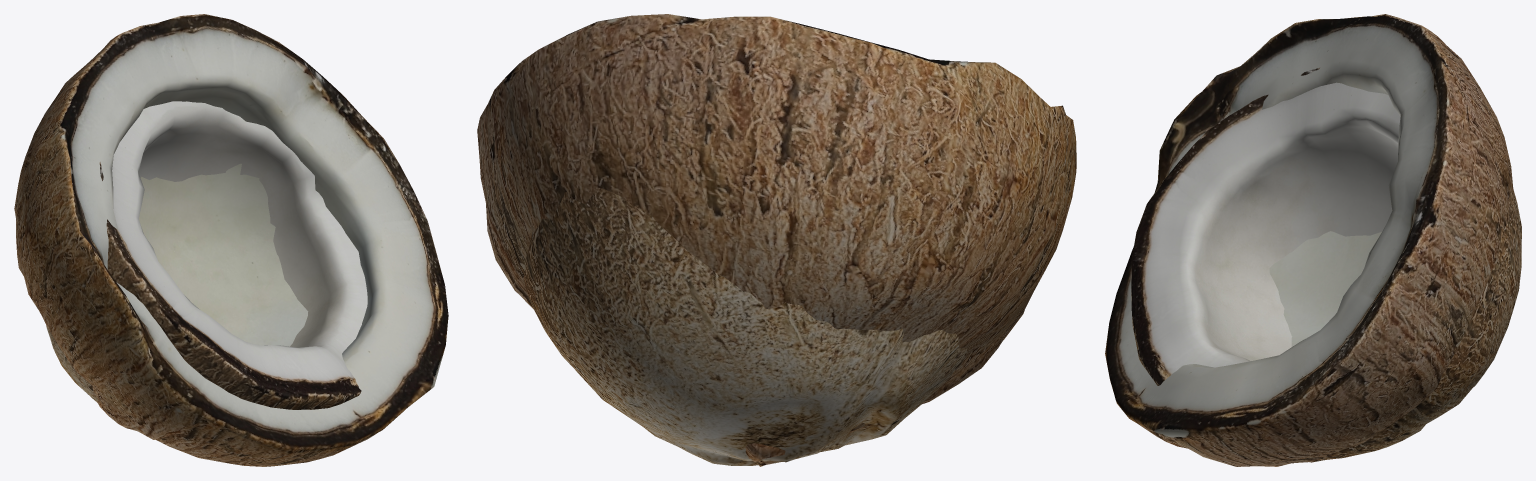
File: kiri_noix_coco.gltf
The picture shows the model from 3 angles, left to right: view 1: azimuth 30°, elevation 25°; view 2: azimuth 150°, elevation 25°; view 3: azimuth 270°, elevation 25°; orthographic projection. The views are drawn at different scales.
Parts seen in each view (by area): view 1: A111_Coconut, A116_Coconut; view 2: A111_Coconut, A116_Coconut; view 3: A111_Coconut, A116_Coconut.
Part boxes in pixels (x1,y1,x2,y2): A111_Coconut: [14, 14, 448, 466]; A116_Coconut: [46, 101, 367, 409]; A111_Coconut: [477, 14, 1076, 466]; A116_Coconut: [523, 188, 968, 465]; A111_Coconut: [1105, 14, 1513, 466]; A116_Coconut: [1131, 67, 1521, 462].
Size of the model in its own units: 0.1356 by 0.12 by 0.1179.
Materials: 2 (2 with a texture image).
